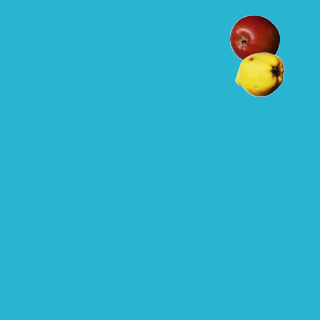Apple Braeburn: (229, 14, 279, 64)
Quince: (234, 49, 284, 99)
